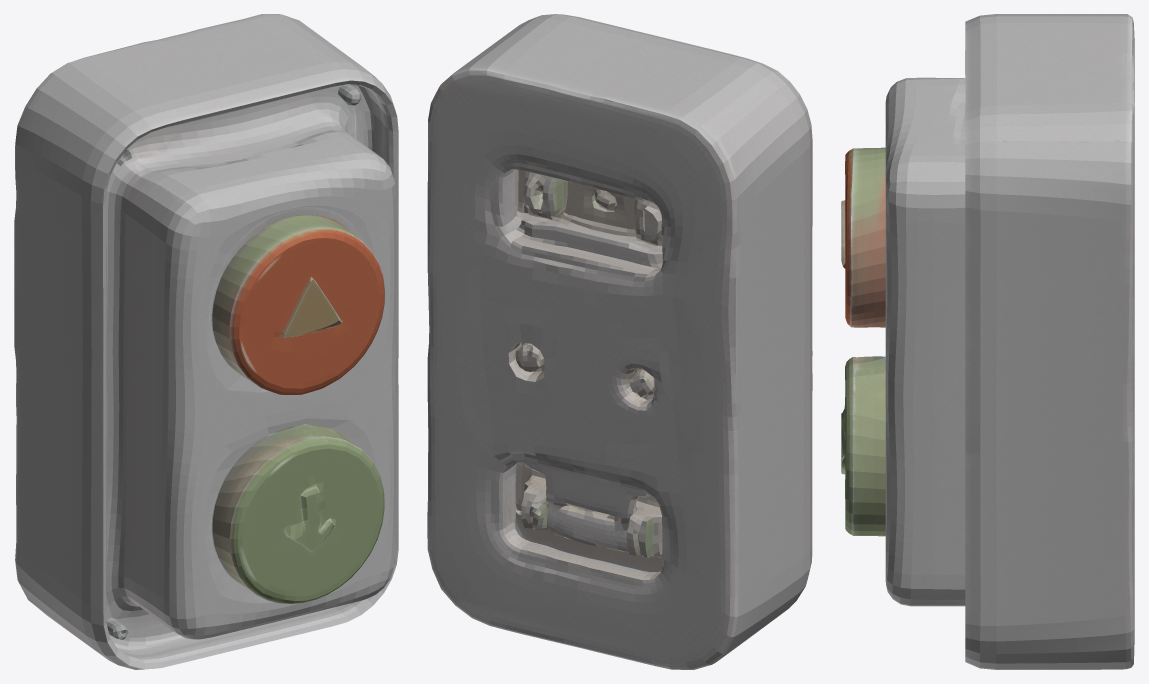
File: botones.fbx
3 renders of one model, left to right at view 1: azimuth 30°, elevation 25°; view 2: azimuth 150°, elevation 25°; view 3: azimuth 270°, elevation 25°, orthographic.
Parts seen in each view (by area): view 1: temp; view 2: temp; view 3: temp.
Part boxes in pixels (x1,y1,x2,y2): temp: [14, 14, 398, 669]; temp: [427, 14, 812, 669]; temp: [841, 14, 1134, 669].
Size of the model in its own units: 110 by 190 by 90.89.
Materials: 1 (1 with a texture image).
